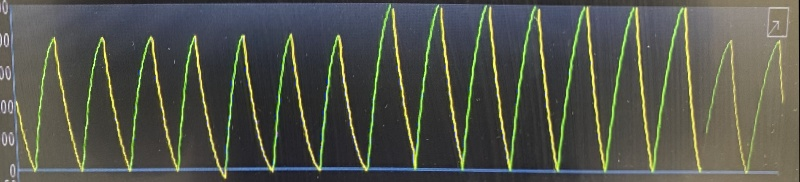normal_volume: (28, 3, 767, 178)
